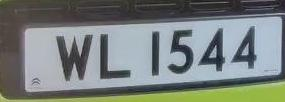1: (139, 25, 168, 81)
4: (227, 19, 263, 77), (198, 21, 231, 78)
5: (163, 21, 199, 80)
L: (93, 27, 135, 81)
W: (54, 29, 96, 85)
